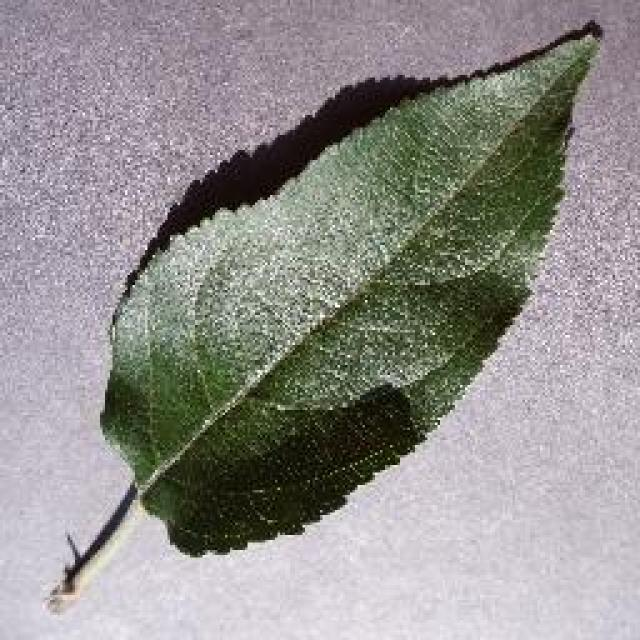apple healthy: (43, 15, 605, 613)
